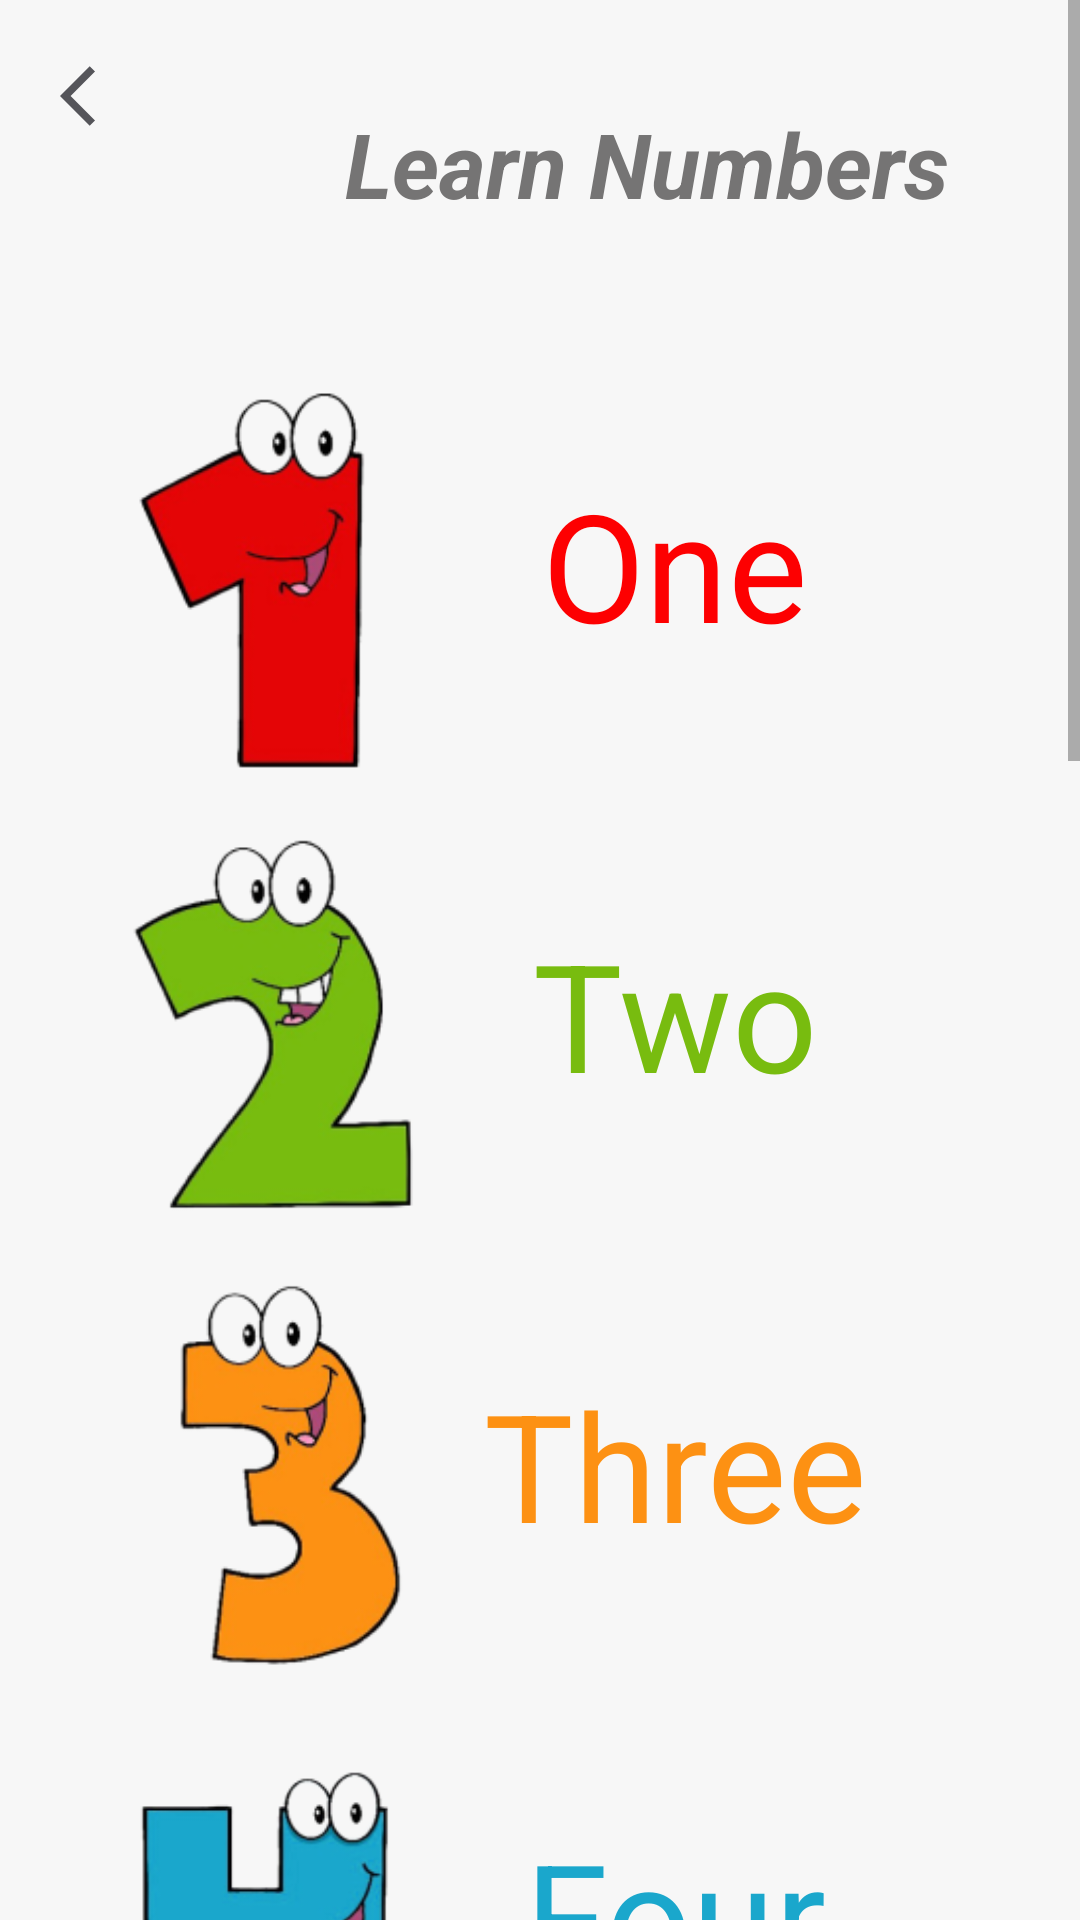

Where icons sit on this 1080px x 1920px app screen, as (x1, y1, x2, y2):
back: (60, 66, 95, 126)
